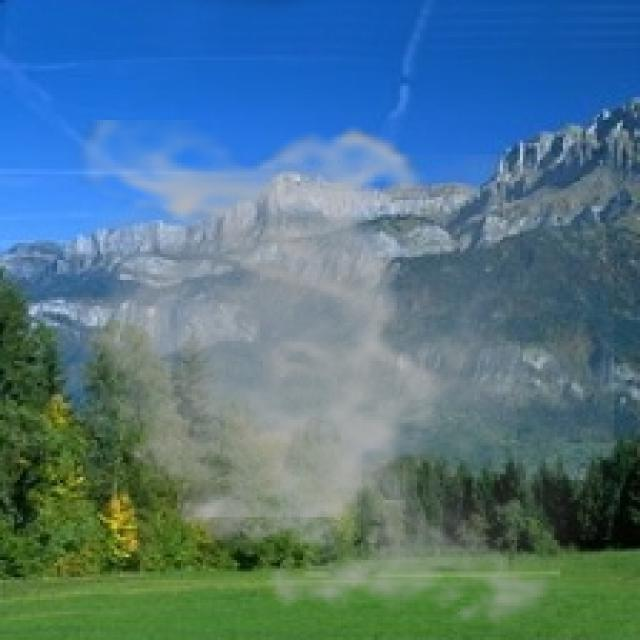Smoke: (52, 120, 618, 637)
